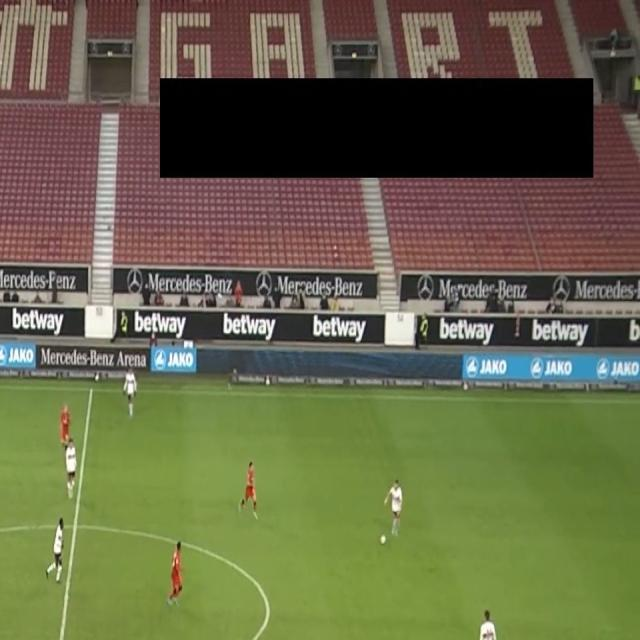ball: (380, 533, 388, 546)
